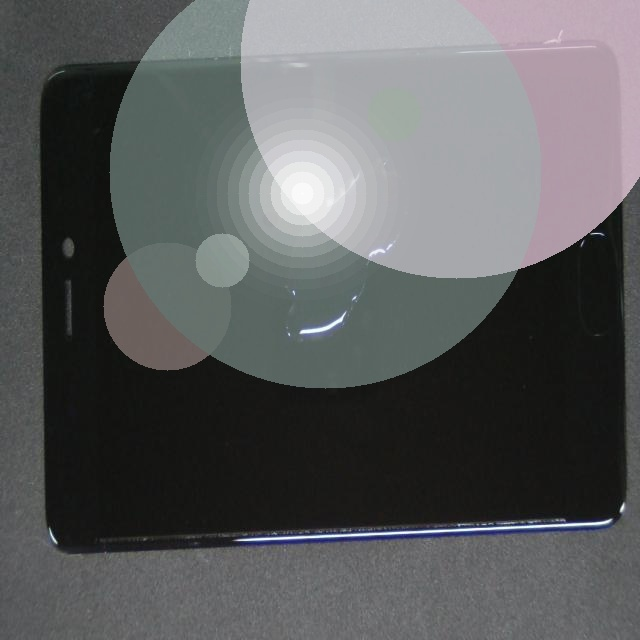oil: (167, 160, 582, 365)
